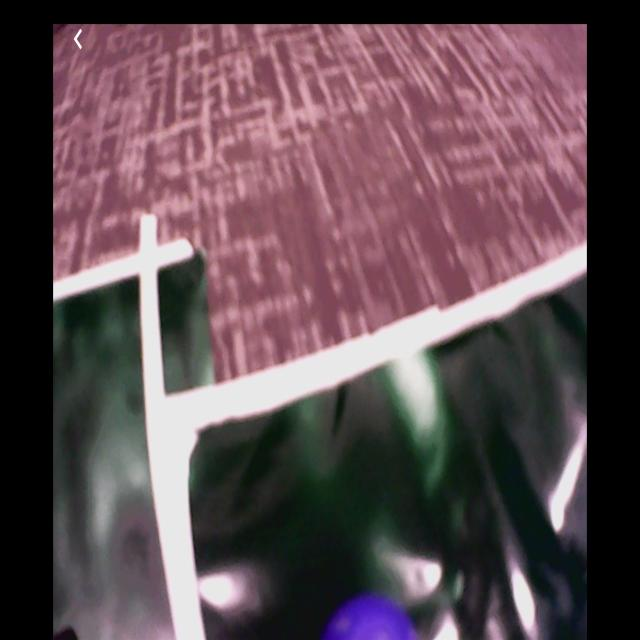ball: (325, 598, 424, 640)
